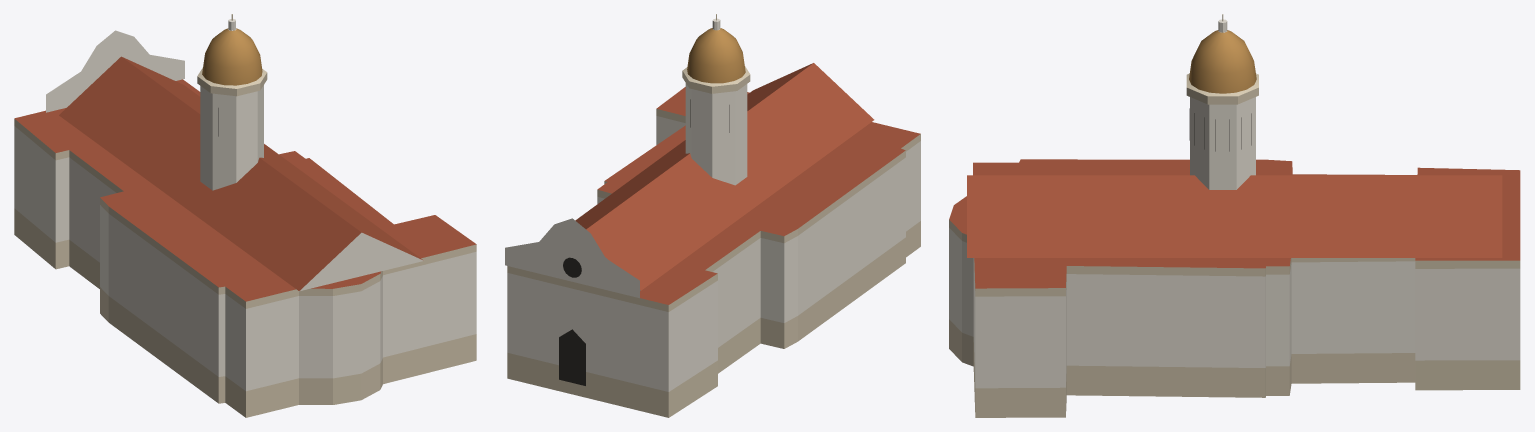
Rendered from mission-dolores.glb.
3 views of the same model, side by side, from view 1: azimuth 30°, elevation 25°; view 2: azimuth 150°, elevation 25°; view 3: azimuth 270°, elevation 25° (orthographic). The views are drawn at different scales.
Parts seen in each view (by area): view 1: basilica; view 2: basilica; view 3: basilica.
Boxes of the visible parts, bbox=[...] form: basilica: bbox=[14, 14, 476, 417]; basilica: bbox=[505, 14, 920, 417]; basilica: bbox=[949, 14, 1520, 417].
Bounding box in the file's own units: 34.21 × 40.92 × 64.02.
